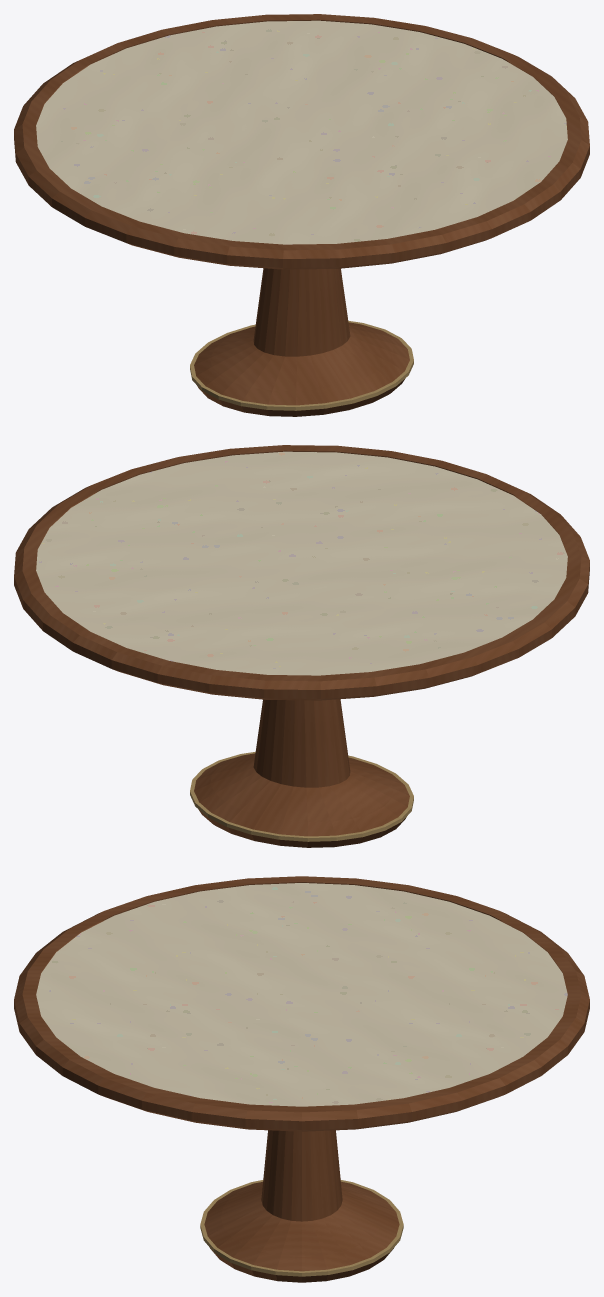
The model's file is AST-DIN-001.glb.
3 renders of one model, top to bottom at view 1: azimuth 30°, elevation 25°; view 2: azimuth 150°, elevation 25°; view 3: azimuth 270°, elevation 25°, orthographic.
Parts seen in each view (by area): view 1: DIN_InsetStoneTop, DIN_WeightedPedestal_0, DIN_ProfiledTableRim, DIN_InlayBorder, DIN_FootTrim_0; view 2: DIN_InsetStoneTop, DIN_WeightedPedestal_0, DIN_ProfiledTableRim, DIN_InlayBorder, DIN_FootTrim_0; view 3: DIN_InsetStoneTop, DIN_WeightedPedestal_0, DIN_ProfiledTableRim, DIN_InlayBorder, DIN_FootTrim_0.
Boxes of the visible parts, box(x1,y1,x2,y2) form: DIN_InsetStoneTop: box(36, 20, 567, 244); DIN_WeightedPedestal_0: box(194, 268, 409, 416); DIN_ProfiledTableRim: box(14, 19, 589, 269); DIN_InlayBorder: box(22, 14, 581, 250); DIN_FootTrim_0: box(190, 321, 413, 410); DIN_InsetStoneTop: box(36, 451, 567, 675); DIN_WeightedPedestal_0: box(194, 699, 409, 847); DIN_ProfiledTableRim: box(14, 450, 589, 700); DIN_InlayBorder: box(22, 445, 581, 681); DIN_FootTrim_0: box(190, 752, 413, 841); DIN_InsetStoneTop: box(36, 883, 567, 1106); DIN_WeightedPedestal_0: box(204, 1130, 399, 1282); DIN_ProfiledTableRim: box(14, 882, 589, 1131); DIN_InlayBorder: box(22, 876, 581, 1112); DIN_FootTrim_0: box(200, 1180, 403, 1276).
Size of the model in its own units: 1.7 by 0.79 by 1.7.
3 materials, 3 textured.
